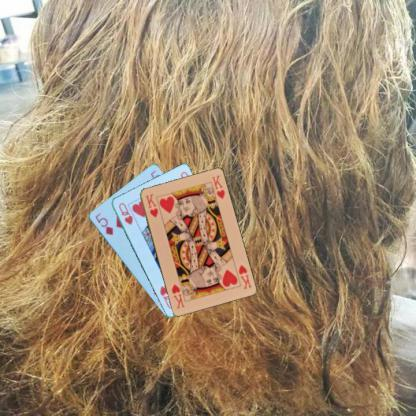5d: (92, 210, 114, 236)
Kh: (142, 192, 159, 219), (236, 262, 252, 290)
Qh: (116, 200, 134, 226)
